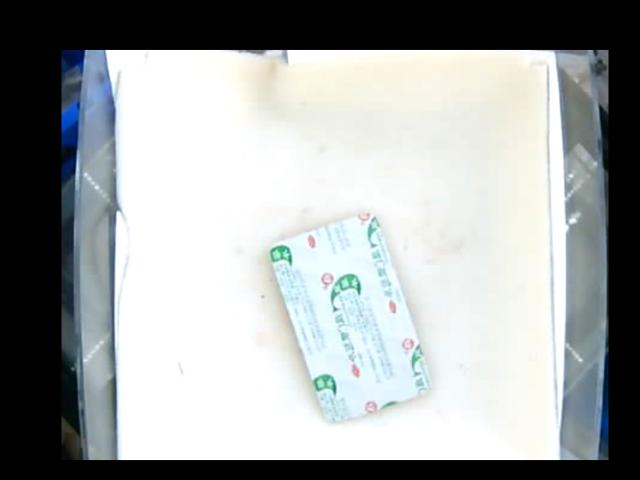Medicine: (274, 212, 426, 423)
